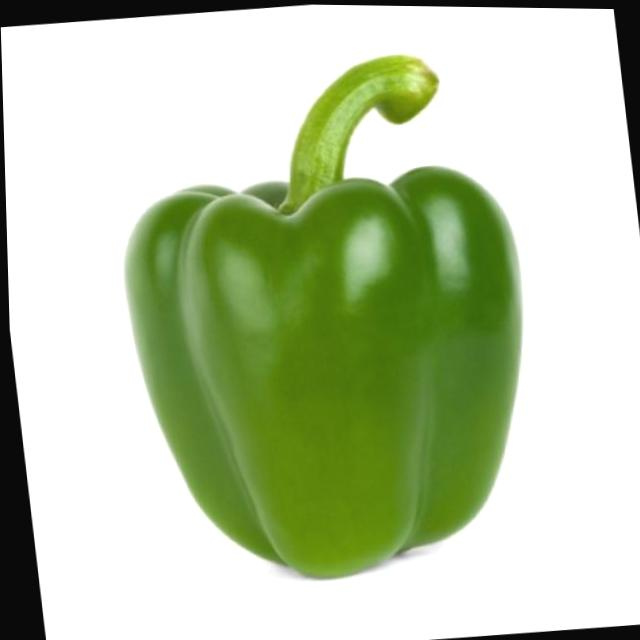Capsicum: (101, 38, 549, 590)
